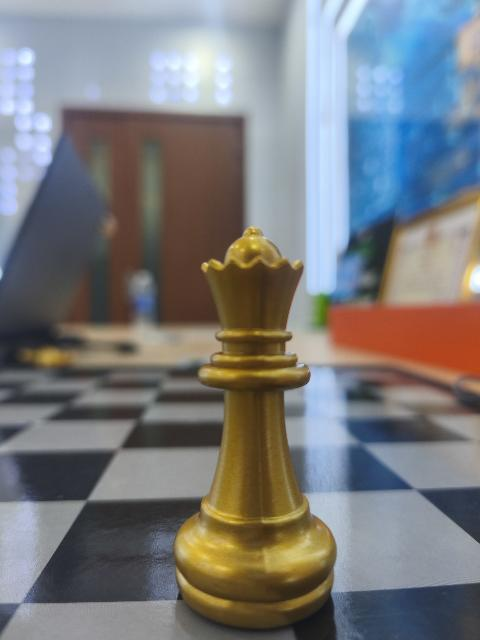black_queen: (179, 226, 339, 634)
